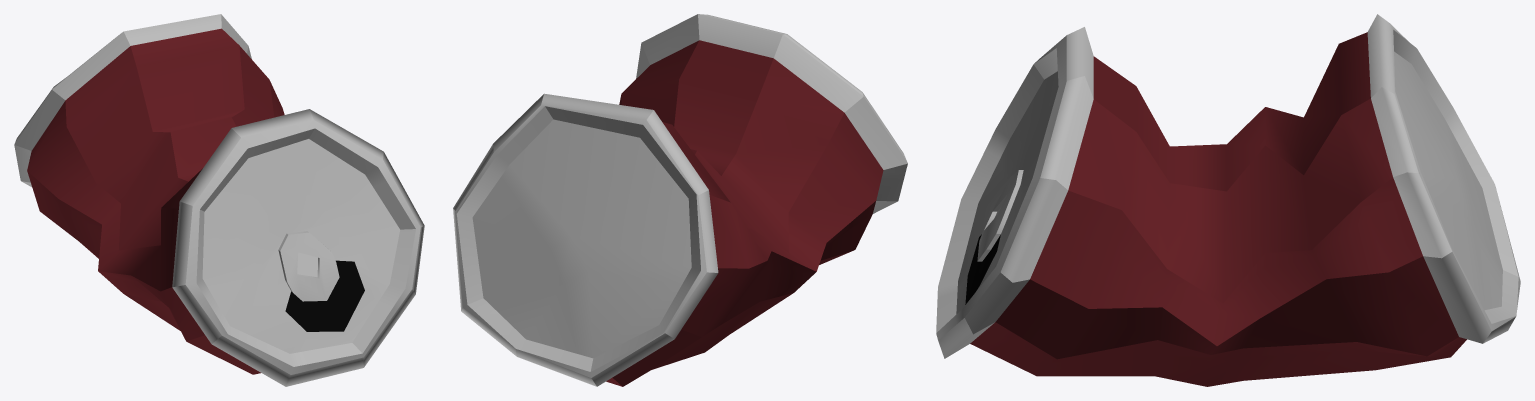
Rendered from Crinkled_Can_Red.fbx.
3 views of the same model, side by side, from view 1: azimuth 30°, elevation 25°; view 2: azimuth 150°, elevation 25°; view 3: azimuth 270°, elevation 25° (orthographic). The views are drawn at different scales.
Parts seen in each view (by area): view 1: can_newmat; view 2: can_newmat; view 3: can_newmat.
Part boxes in pixels (left/top/right/bottom): can_newmat: left=14, top=14, right=424, bottom=386; can_newmat: left=453, top=14, right=907, bottom=386; can_newmat: left=936, top=14, right=1520, bottom=386.
Size of the model in its own units: 0.3634 by 0.3554 by 0.556.
